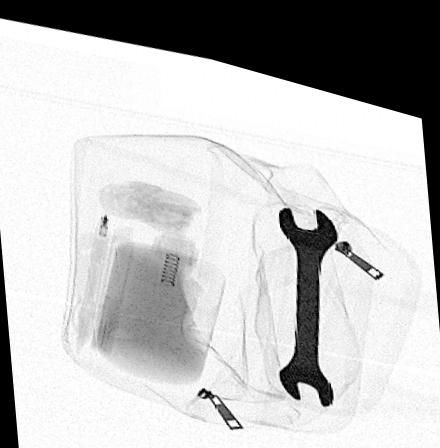Wrench: (278, 189, 338, 390)
